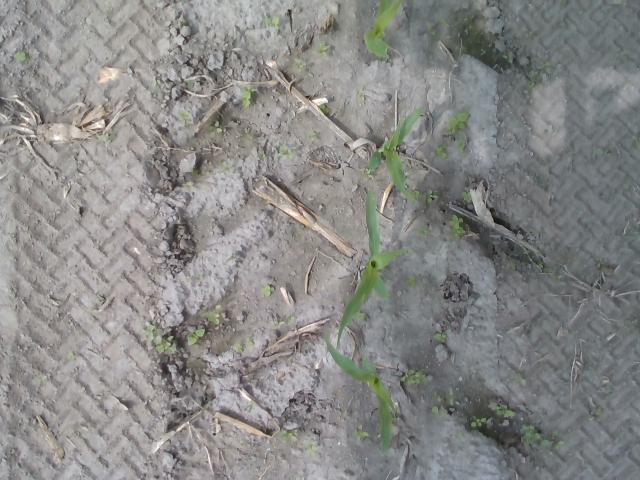Maize: (334, 190, 408, 348), (323, 330, 395, 456), (367, 107, 423, 197), (362, 1, 403, 61)
Weeds: (454, 20, 512, 70), (520, 422, 560, 452), (144, 327, 176, 354), (528, 60, 554, 90), (430, 392, 461, 416), (534, 257, 560, 283), (400, 366, 432, 387), (445, 110, 471, 133), (448, 214, 467, 239), (495, 403, 518, 420), (232, 336, 255, 353), (208, 306, 226, 326), (186, 328, 205, 346), (350, 427, 369, 444), (584, 405, 602, 422), (512, 370, 528, 386), (178, 109, 193, 126), (278, 429, 296, 443), (277, 146, 297, 158), (242, 90, 256, 106), (424, 188, 438, 204), (208, 120, 222, 136), (628, 135, 640, 153), (12, 50, 28, 63), (470, 416, 487, 428), (266, 16, 280, 30), (407, 190, 421, 204), (304, 440, 318, 454), (433, 329, 448, 342), (260, 284, 274, 297), (318, 42, 331, 56), (406, 273, 418, 288), (456, 138, 466, 155), (436, 144, 448, 158), (100, 130, 112, 144), (416, 226, 429, 238), (306, 129, 320, 140), (293, 62, 305, 74), (462, 190, 474, 202), (220, 162, 232, 174), (272, 320, 286, 330), (66, 350, 77, 362), (320, 104, 328, 114)
